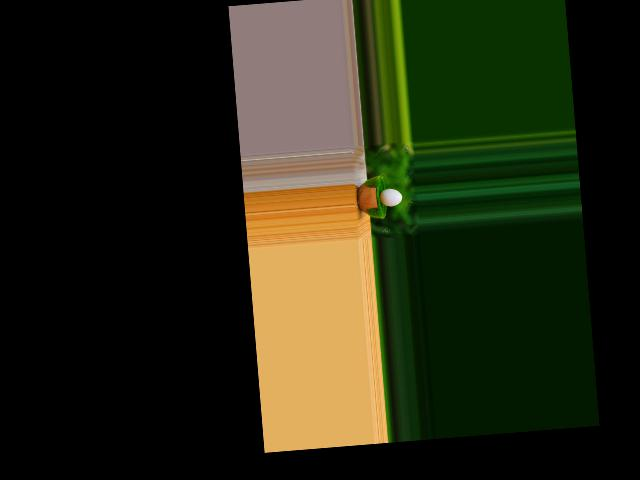egg: (378, 187, 402, 206)
